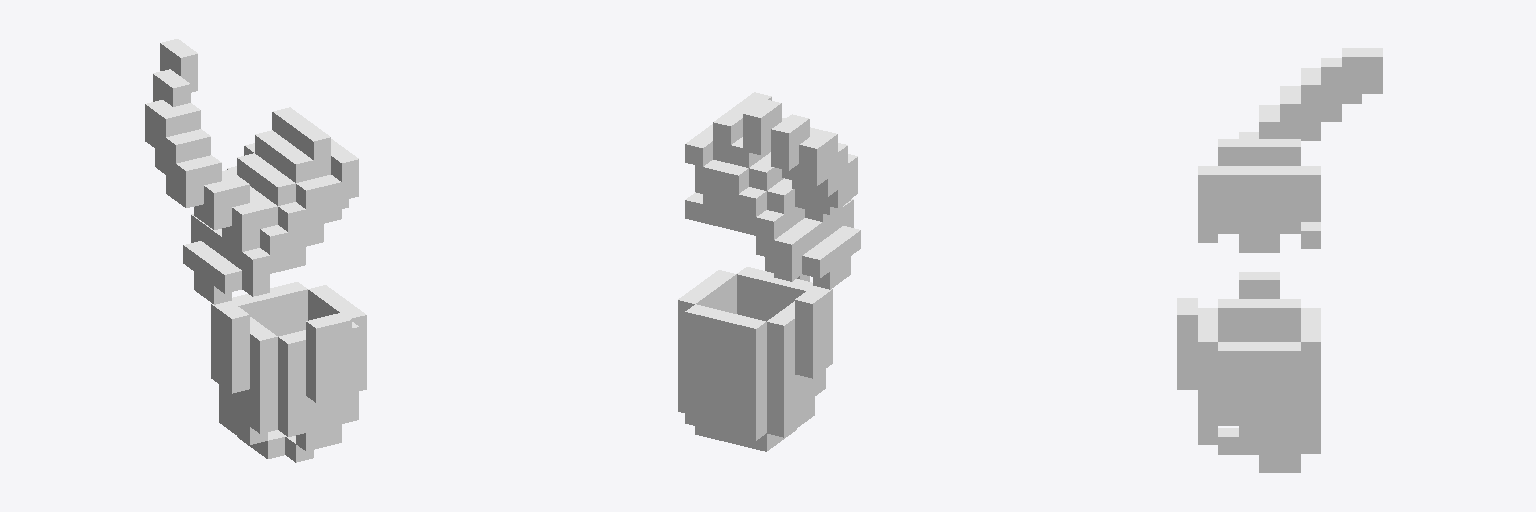
The model's file is chestRight.obj.
3 views of the same model, side by side, from view 1: azimuth 30°, elevation 25°; view 2: azimuth 150°, elevation 25°; view 3: azimuth 270°, elevation 25° (orthographic).
Parts seen in each view (by area): view 1: object 1; view 2: object 1; view 3: object 1.
Part boxes in pixels (left/top/right/bottom): object 1: left=145, top=39, right=366, bottom=462; object 1: left=678, top=92, right=860, bottom=451; object 1: left=1177, top=48, right=1382, bottom=472.
Bounding box in the file's own units: 0.9 × 2 × 1.